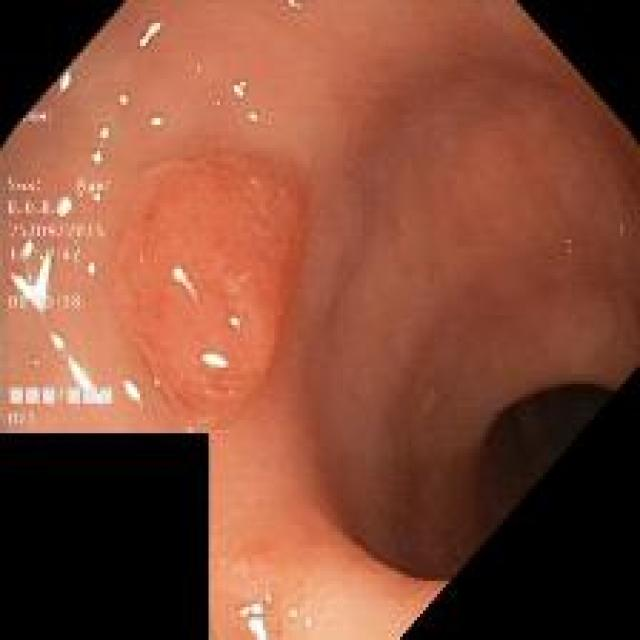Polyps: (120, 157, 302, 418)
